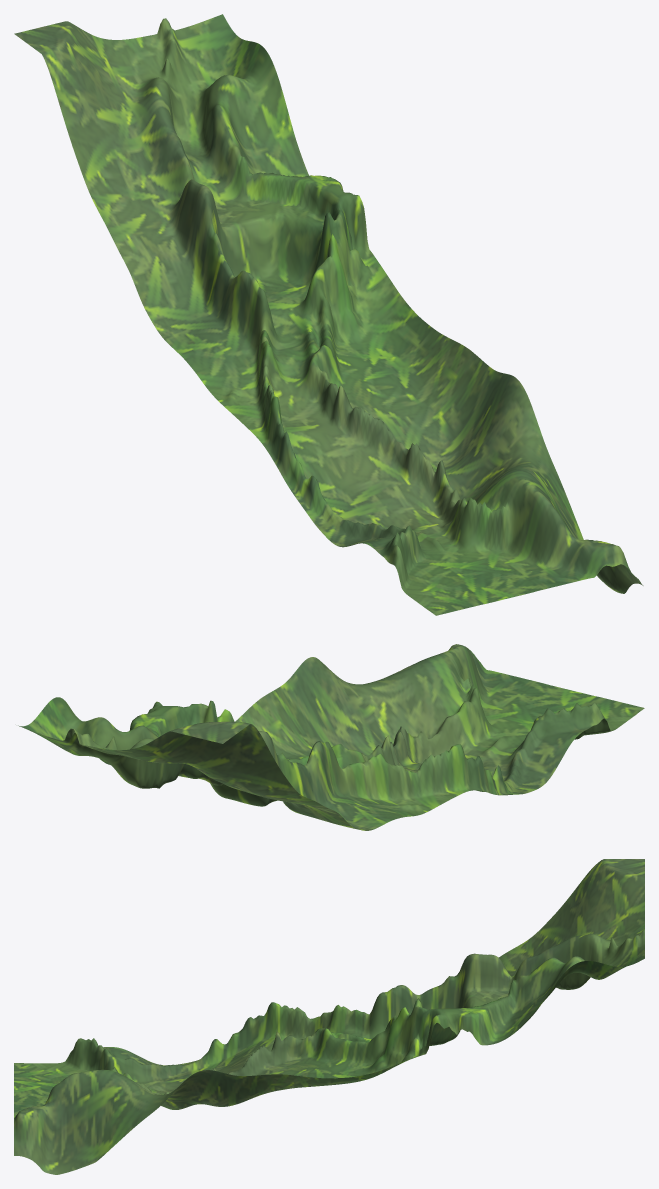
The picture shows the model from 3 angles, top to bottom: view 1: azimuth 30°, elevation 25°; view 2: azimuth 150°, elevation 25°; view 3: azimuth 270°, elevation 25°; orthographic projection. The views are drawn at different scales.
Parts seen in each view (by area): view 1: Snow_FirTree_x3_y3_Scene.007; view 2: Snow_FirTree_x3_y3_Scene.007; view 3: Snow_FirTree_x3_y3_Scene.007.
Boxes of the visible parts, <box> form: Snow_FirTree_x3_y3_Scene.007: <box>14,14,643,615</box>; Snow_FirTree_x3_y3_Scene.007: <box>18,644,644,830</box>; Snow_FirTree_x3_y3_Scene.007: <box>14,859,644,1174</box>.
Size of the model in its own units: 200 by 293 by 700.
